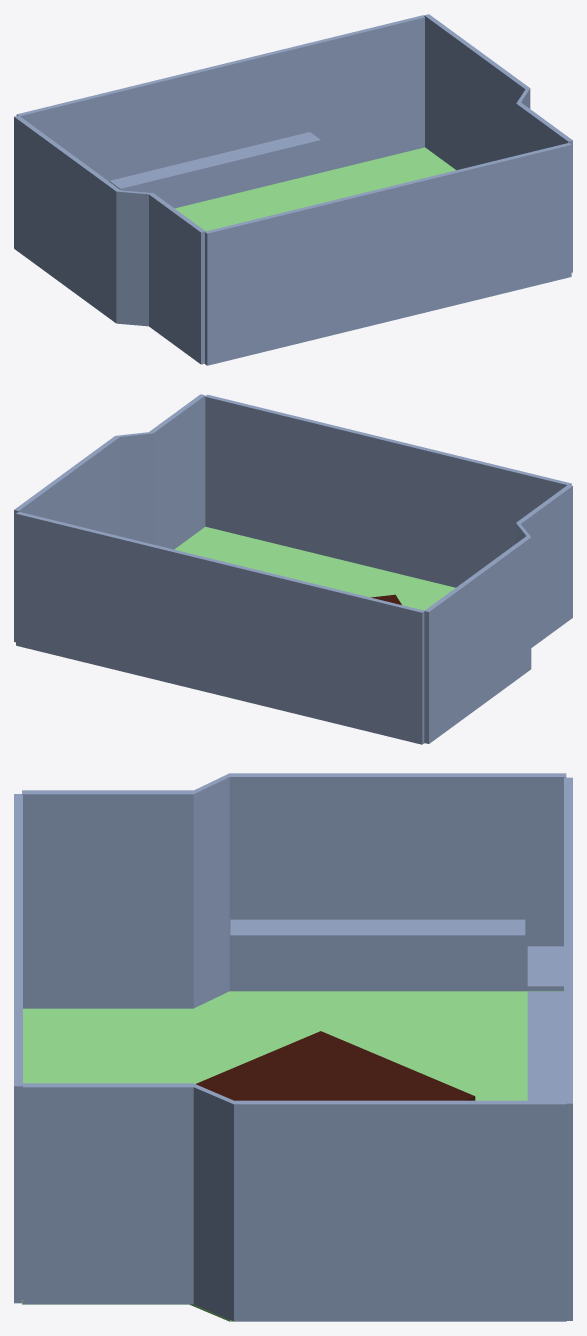
Rendered from cesFloor_noStorage.fbx.
3 renders of one model, top to bottom at view 1: azimuth 30°, elevation 25°; view 2: azimuth 150°, elevation 25°; view 3: azimuth 270°, elevation 25°, orthographic. The views are drawn at different scales.
Parts seen in each view (by area): view 1: Wall-E.005, Wall-E.001, Wall-E.003, Wall-E.006, Wall-E.004, Floor, Counter Nbig, Wall-E.007, Storage; view 2: Wall-E.001, Wall-E.005, Wall-E.003, Wall-E.007, Floor, Wall-E.006, Wall-E.004; view 3: Wall-E.004, Wall-E.003, Wall-E.007, Wall-E.006, Floor, House, Counter W, Storage.001, Wall-E.005, Wall-E.001, Counter Nbig, Counter Nsmall.
Boxes of the visible parts, x1,y1,x2,y2 form: Wall-E.005: [205, 143, 571, 365]; Wall-E.001: [16, 15, 424, 208]; Wall-E.003: [14, 115, 120, 322]; Wall-E.006: [116, 190, 205, 364]; Wall-E.004: [424, 14, 529, 170]; Floor: [175, 152, 435, 231]; Counter Nbig: [109, 132, 320, 190]; Wall-E.007: [516, 88, 572, 272]; Storage: [405, 147, 455, 174]; Wall-E.001: [16, 512, 424, 744]; Wall-E.005: [205, 394, 571, 587]; Wall-E.003: [424, 536, 531, 743]; Wall-E.007: [116, 394, 205, 549]; Floor: [174, 526, 455, 610]; Wall-E.006: [516, 484, 572, 647]; Wall-E.004: [14, 436, 119, 642]; Wall-E.004: [234, 1100, 566, 1321]; Wall-E.003: [229, 773, 566, 991]; Wall-E.007: [23, 1083, 233, 1321]; Wall-E.006: [22, 773, 229, 1008]; Floor: [22, 1008, 527, 1304]; House: [196, 1031, 475, 1100]; Counter W: [230, 919, 525, 939]; Storage.001: [194, 991, 563, 1008]; Wall-E.005: [14, 794, 22, 1303]; Wall-E.001: [564, 777, 572, 1320]; Counter Nbig: [527, 991, 563, 1100]; Counter Nsmall: [527, 946, 563, 990].
Size of the model in its own units: 8225 by 2538 by 5834.
